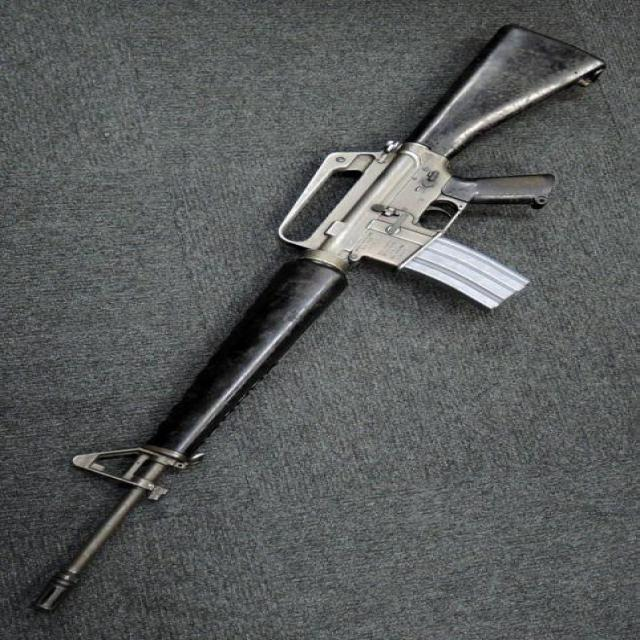rifle: (27, 25, 606, 608)
